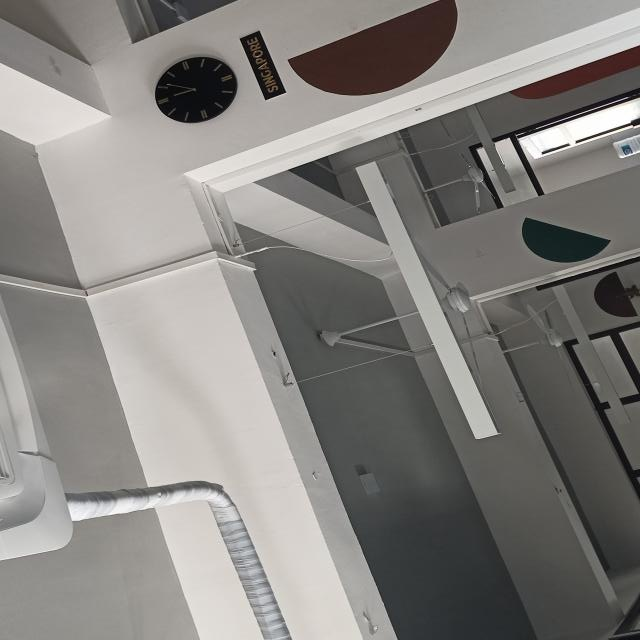fluorescent tube: (341, 154, 508, 448), (544, 280, 637, 436), (466, 98, 525, 197)
